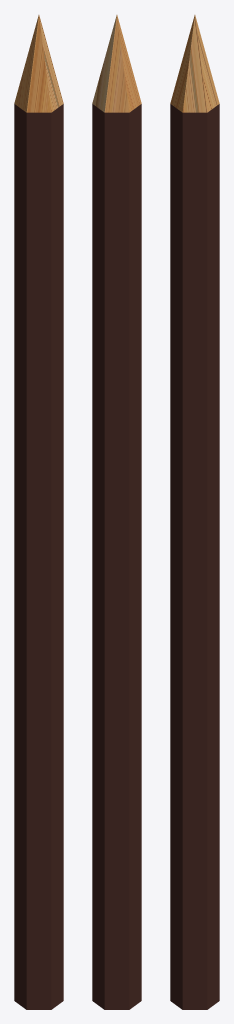
Rendered from Stick_03.fbx.
3 renders of one model, left to right at view 1: azimuth 30°, elevation 25°; view 2: azimuth 150°, elevation 25°; view 3: azimuth 330°, elevation 25°, orthographic.
Parts seen in each view (by area): view 1: Stick_03; view 2: Stick_03; view 3: Stick_03.
Boxes of the visible parts, x1=… form: Stick_03: x1=14, y1=15, x2=63, y2=1009; Stick_03: x1=92, y1=15, x2=141, y2=1009; Stick_03: x1=170, y1=15, x2=219, y2=1009.
Bounding box in the file's own units: 33.67 × 855 × 38.88.
